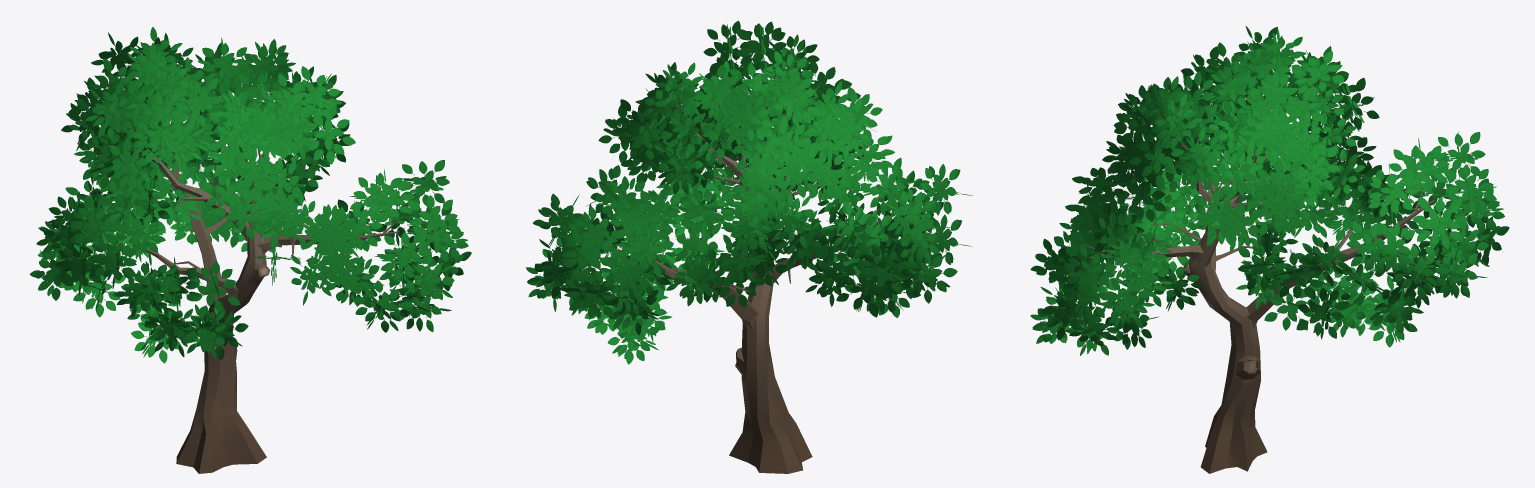
The model's file is tree.fbx.
The picture shows the model from 3 angles, left to right: view 1: azimuth 30°, elevation 25°; view 2: azimuth 150°, elevation 25°; view 3: azimuth 270°, elevation 25°; orthographic projection.
Visible parts, largest first — view 1: PT_Fruit_Tree_01_green_LOD0; view 2: PT_Fruit_Tree_01_green_LOD0; view 3: PT_Fruit_Tree_01_green_LOD0.
Part boxes in pixels (bbox=[...]): PT_Fruit_Tree_01_green_LOD0: bbox=[29, 27, 471, 473]; PT_Fruit_Tree_01_green_LOD0: bbox=[526, 20, 972, 473]; PT_Fruit_Tree_01_green_LOD0: bbox=[1030, 26, 1509, 473].
Size of what is drawn, in the model's own units: 26.95 by 27.26 by 30.07.
Materials: 2 (2 with a texture image).
